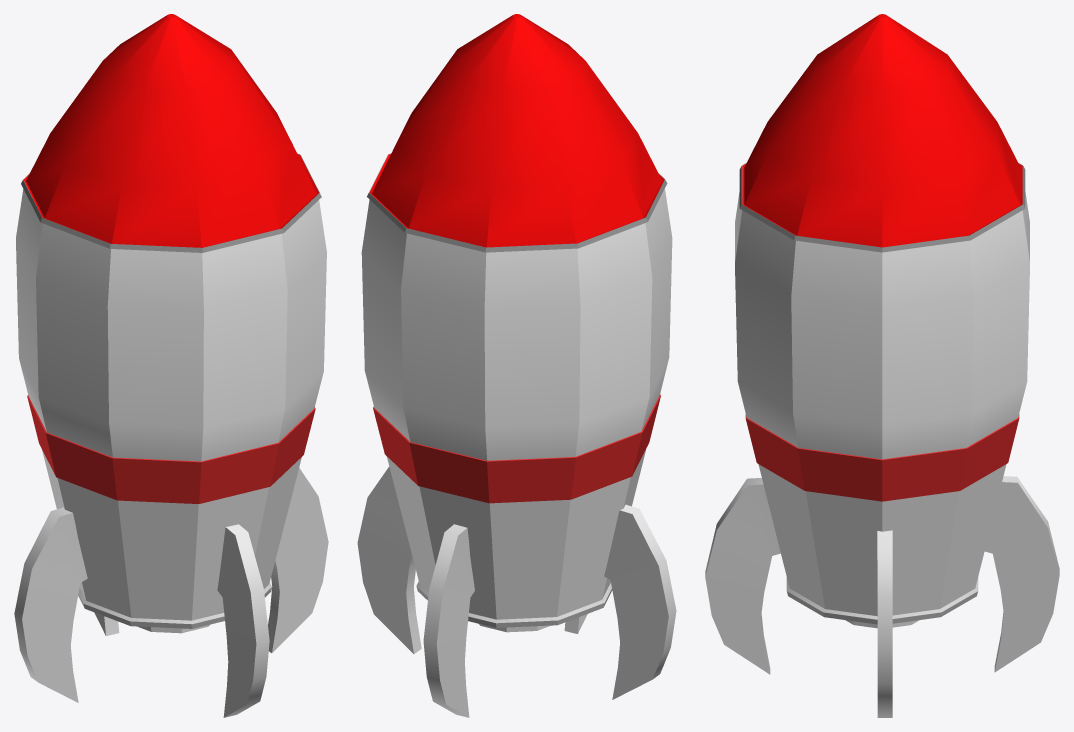
The model's file is Rocket.fbx.
3 views of the same model, side by side, from view 1: azimuth 30°, elevation 25°; view 2: azimuth 150°, elevation 25°; view 3: azimuth 270°, elevation 25° (orthographic).
Parts seen in each view (by area): view 1: body, arm3, arm2, arm1; view 2: body, arm3, arm4, arm1; view 3: body, arm2, arm4, arm1.
Boxes of the visible parts, x1,y1,x2,y2 form: body: (16, 14, 326, 633); arm3: (14, 507, 87, 702); arm2: (217, 524, 269, 717); arm1: (268, 468, 328, 652); body: (361, 14, 672, 632); arm3: (604, 504, 676, 699); arm4: (423, 524, 474, 717); arm1: (357, 467, 421, 653); body: (735, 14, 1029, 628); arm2: (705, 478, 780, 674); arm4: (984, 476, 1059, 672); arm1: (877, 530, 892, 717).
Bounding box in the file's own units: 2.41 × 4.91 × 2.41.
